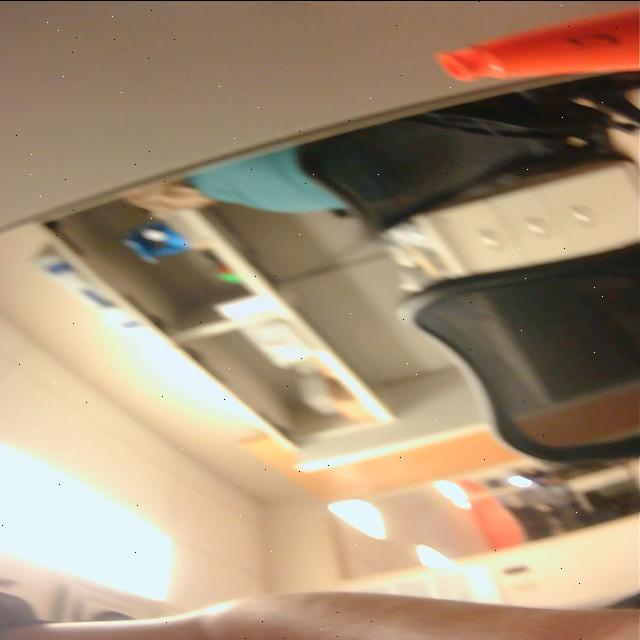traffic cone: (424, 2, 640, 90)
